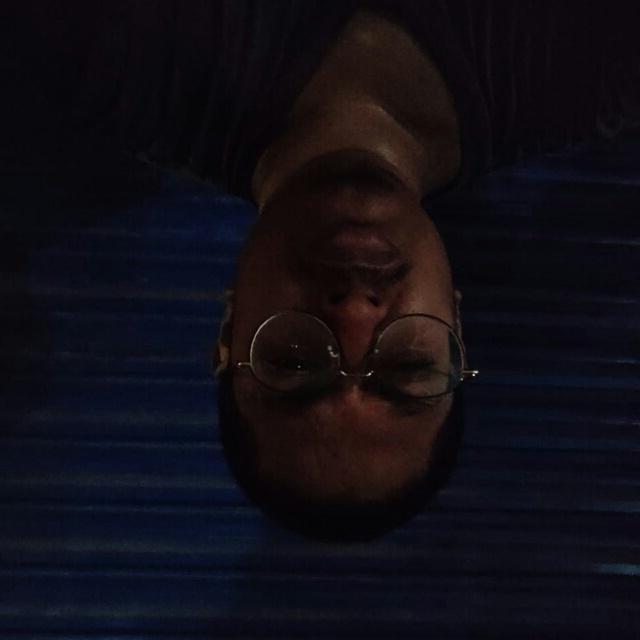Disgust: (160, 139, 546, 572)
